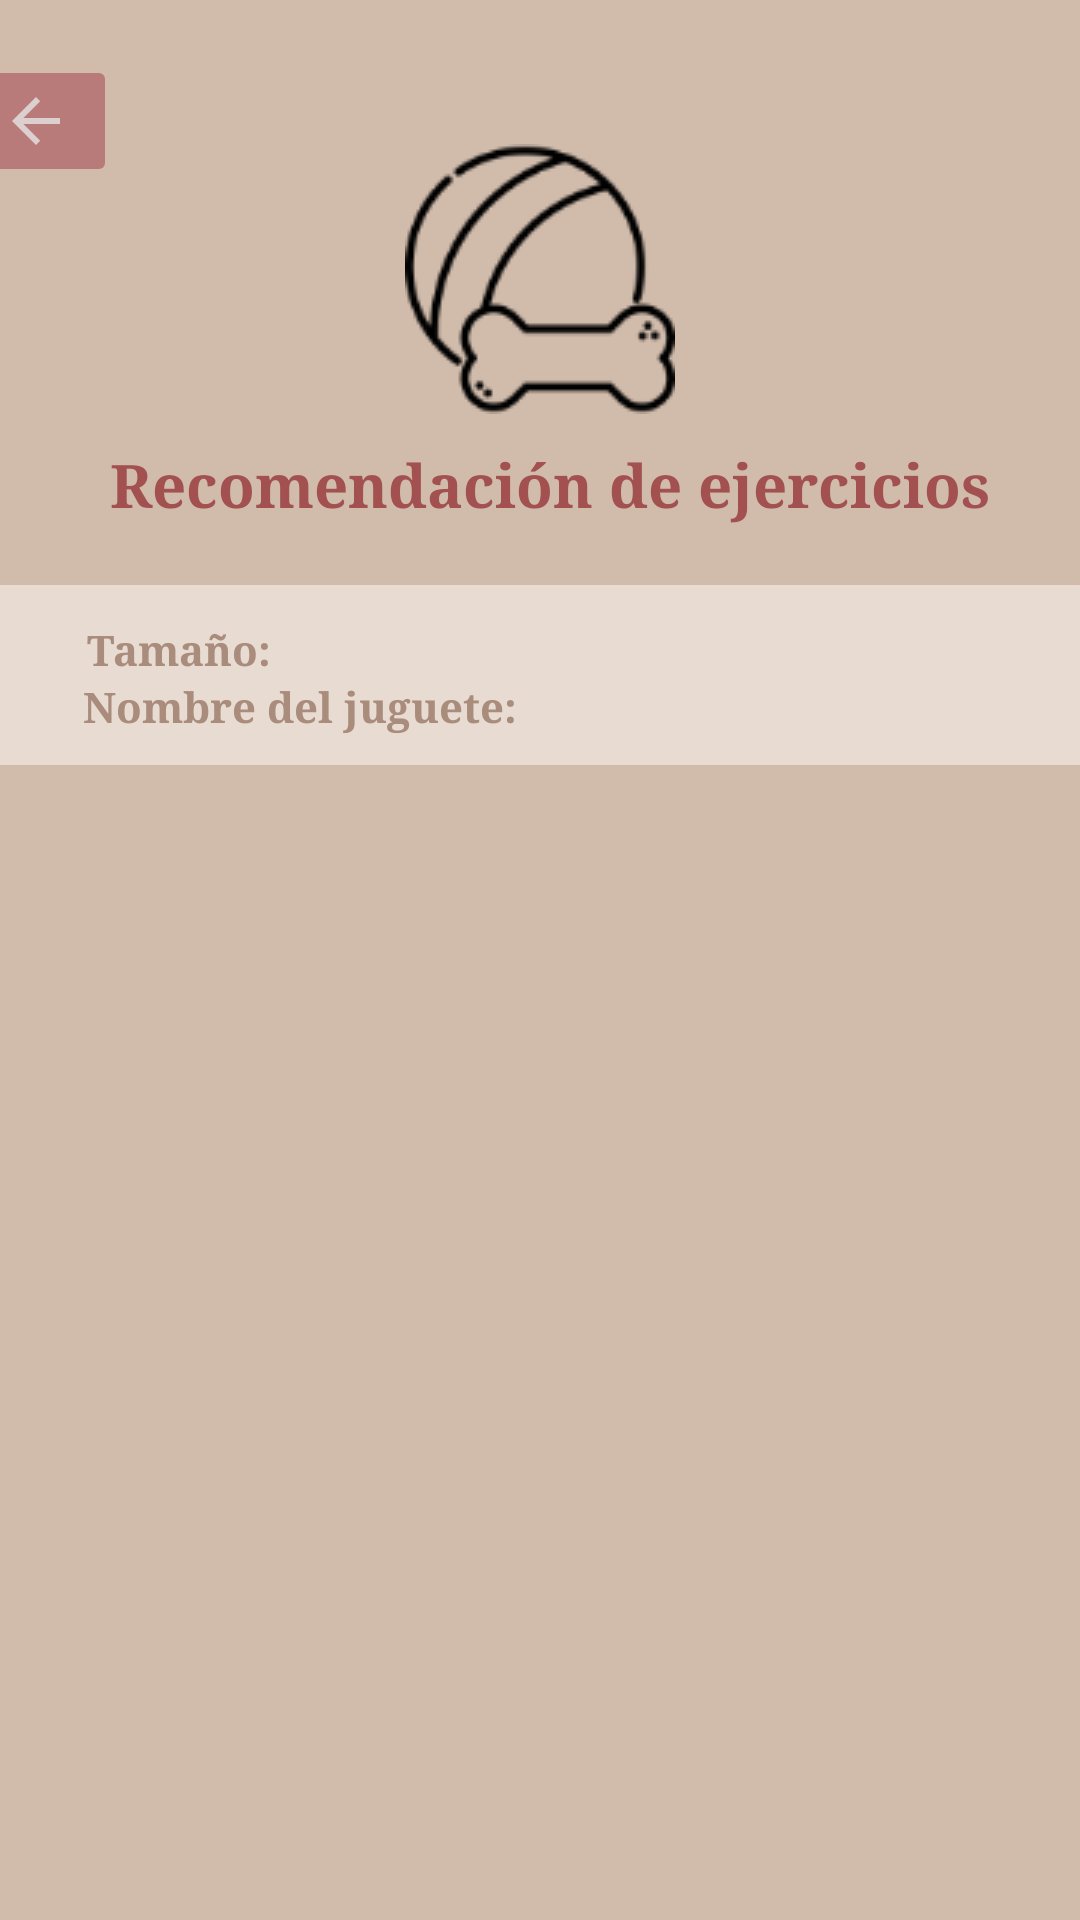

Where to tap for icons on this 1080*1920 app screen, as point (x, y):
toysicon: point (540, 279)
